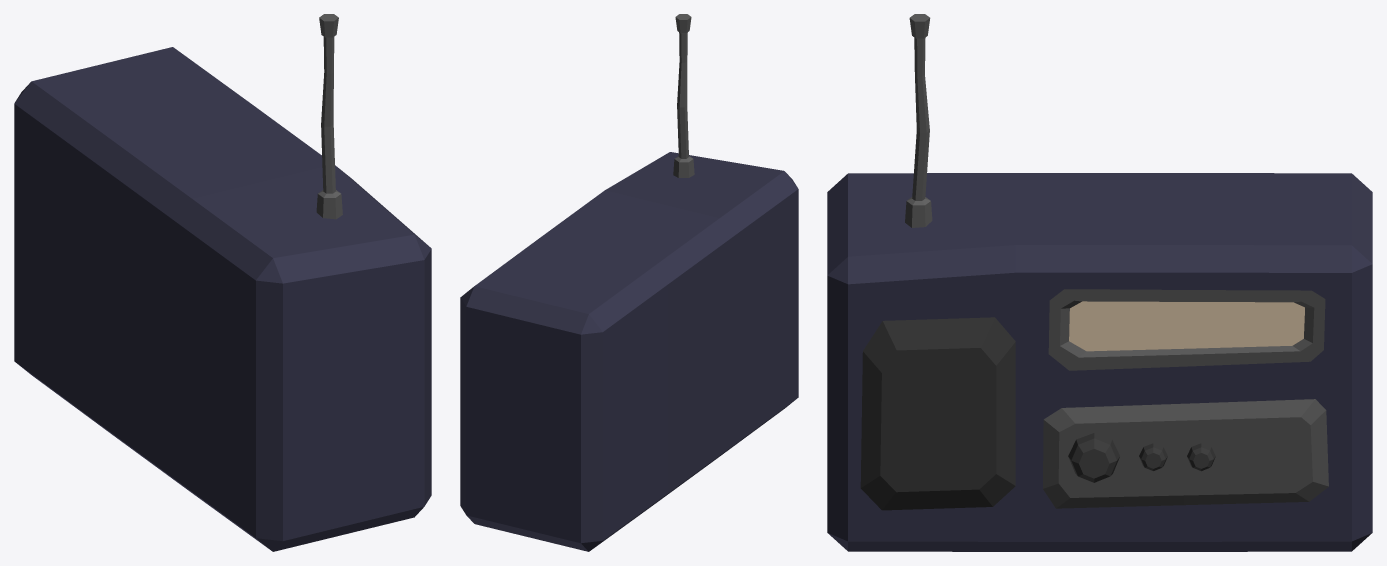
The model's file is radio.fbx.
3 renders of one model, left to right at view 1: azimuth 30°, elevation 25°; view 2: azimuth 150°, elevation 25°; view 3: azimuth 270°, elevation 25°, orthographic. The views are drawn at different scales.
Visible parts, largest first — view 1: Cylinder.002; view 2: Cylinder.002; view 3: Cylinder.002.
Boxes of the visible parts, x1,y1,x2,y2 form: Cylinder.002: (14, 14, 431, 551); Cylinder.002: (460, 14, 798, 551); Cylinder.002: (827, 14, 1372, 551).
Size of the model in its own units: 68.91 by 155 by 150.
